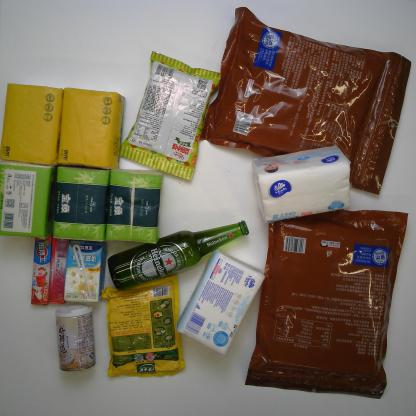Alcohol: (108, 219, 250, 291)
Candy: (30, 235, 53, 305), (48, 235, 68, 306)
Canned Food: (55, 304, 96, 371)
Dried Food: (200, 6, 411, 194), (245, 198, 408, 399)
Milk: (63, 236, 107, 305)
Puffed Food: (118, 50, 225, 180)
Seasoner: (101, 274, 186, 378)
Tissue: (178, 246, 266, 356), (252, 145, 351, 223), (0, 84, 65, 168), (59, 89, 125, 170), (0, 162, 59, 240), (53, 167, 110, 242), (107, 169, 163, 245)
